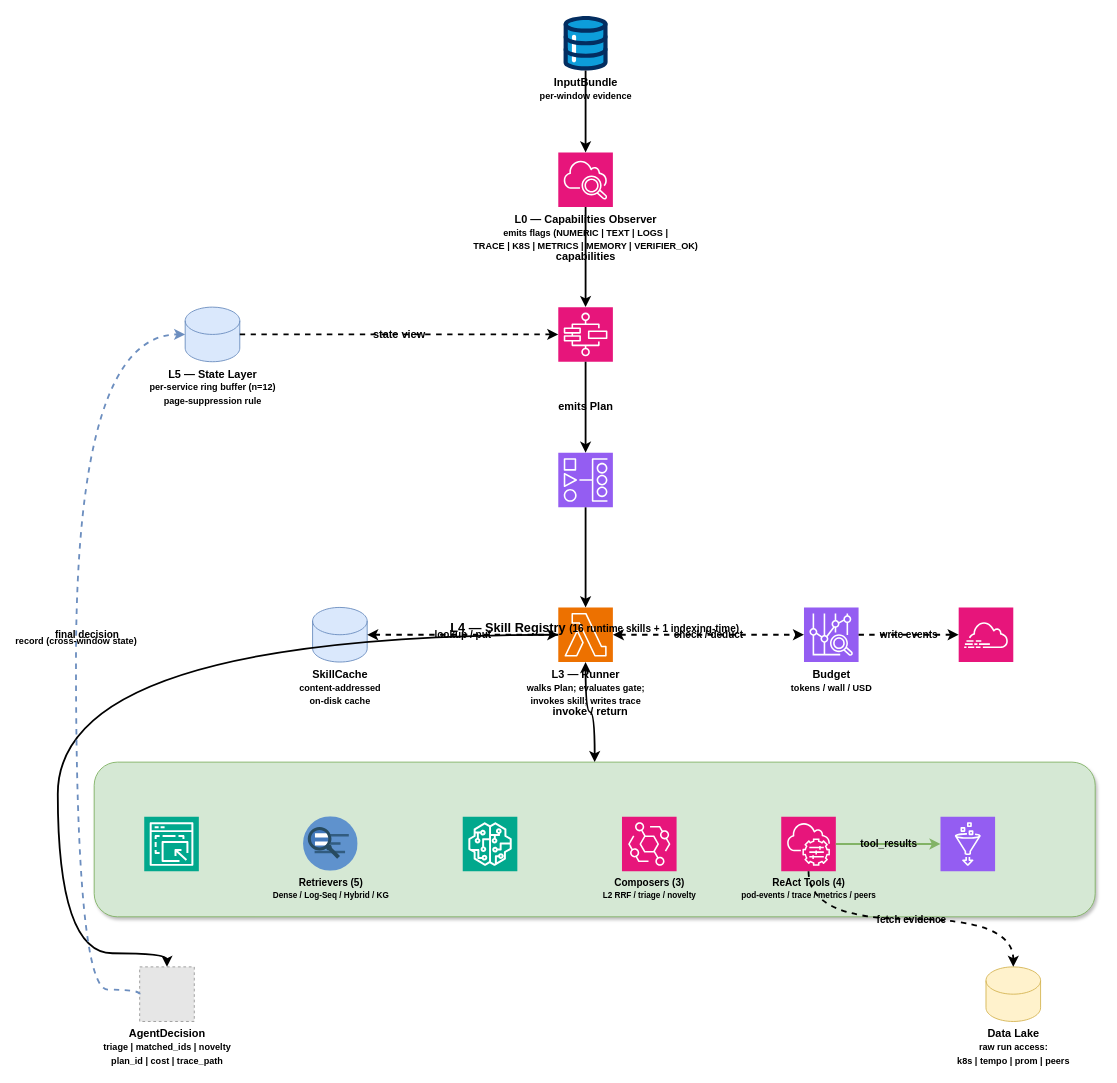
Image size: 1117x1083. Some labels were removed from this diagram. Grey dashed boxes stand in for pictures. Here are the shapes that lost their labels. From the top down, the centre of each, then its label:
At point 585,334: "L1 — Controller CapabilityAwareRuleController selects 1 of 6 branches".
At point 585,479: "L2 — Plan ordered skill invocations + gates + per-call budget".
At point 985,634: "Trace replayable JSON log".
At point 171,843: "Triage HGB classifier".
At point 489,843: "LLM Verifier root-cause check".
At point 967,843: "Rerank consumes tool_results".
